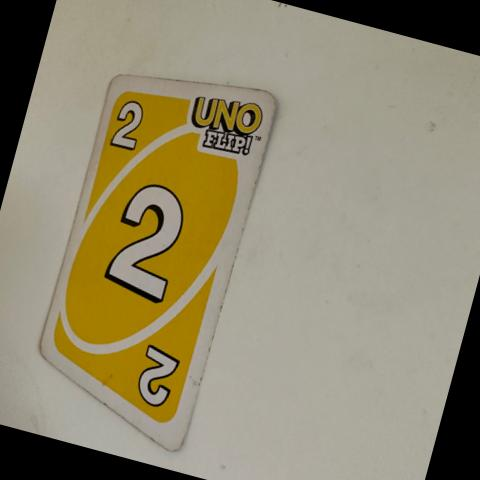1_yellow: (102, 179, 185, 306), (129, 338, 190, 410), (106, 95, 153, 158)
